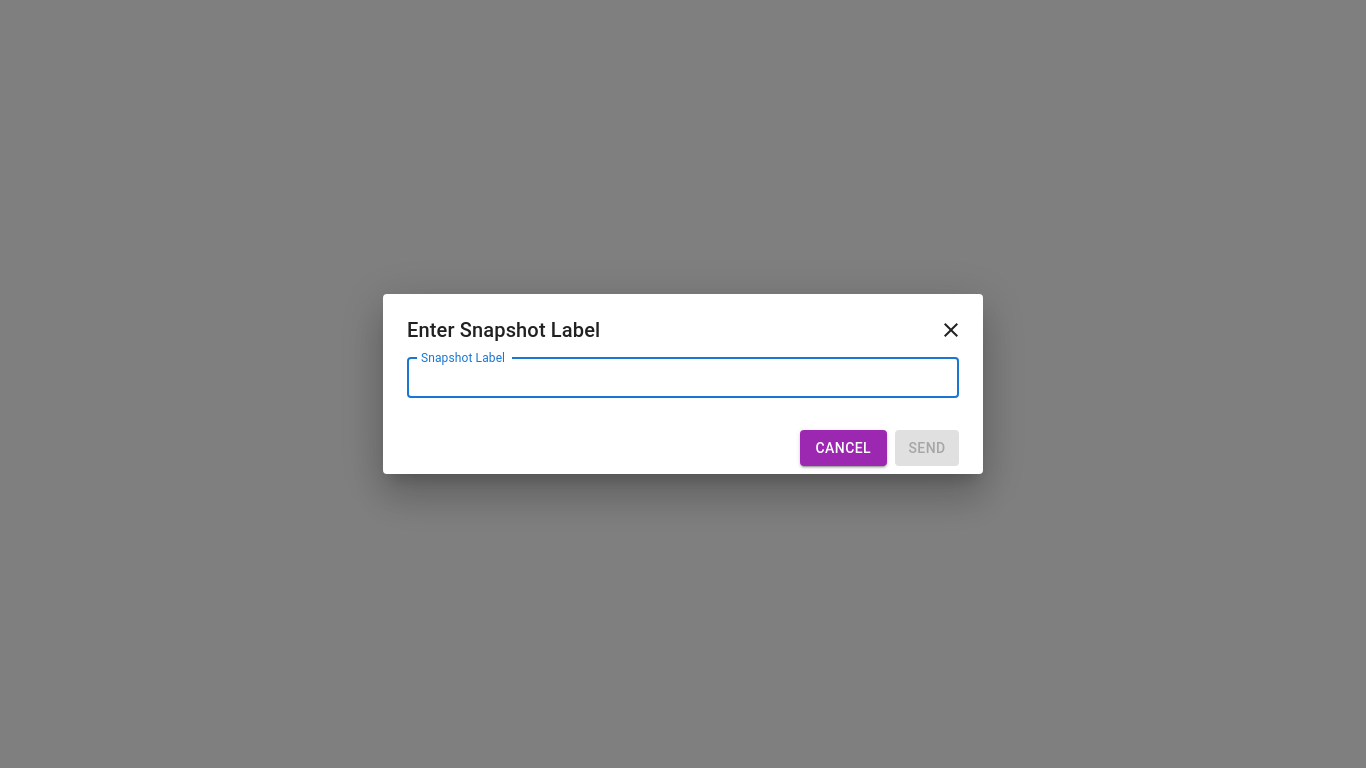
it: EndStatusModal › Form submission and API integration › shows success snackbar and closes modal on successful submission
The image size is (1366, 768).
Type "Success test" into the field labelled "Snapshot Label".
click(683, 378); type("Success test")  # box x1=407 y1=358 x2=959 y2=398
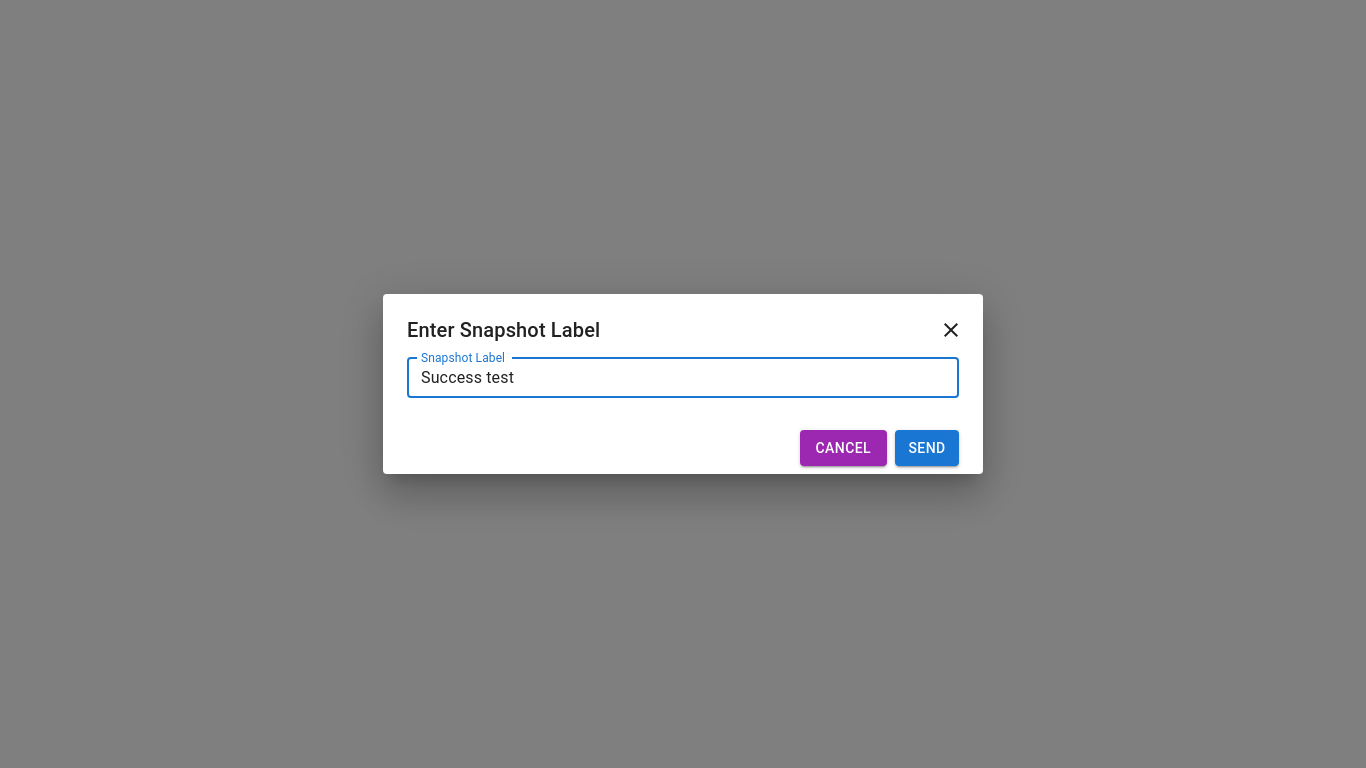
Click the button "Send".
click(927, 448)  # box x1=895 y1=430 x2=959 y2=466
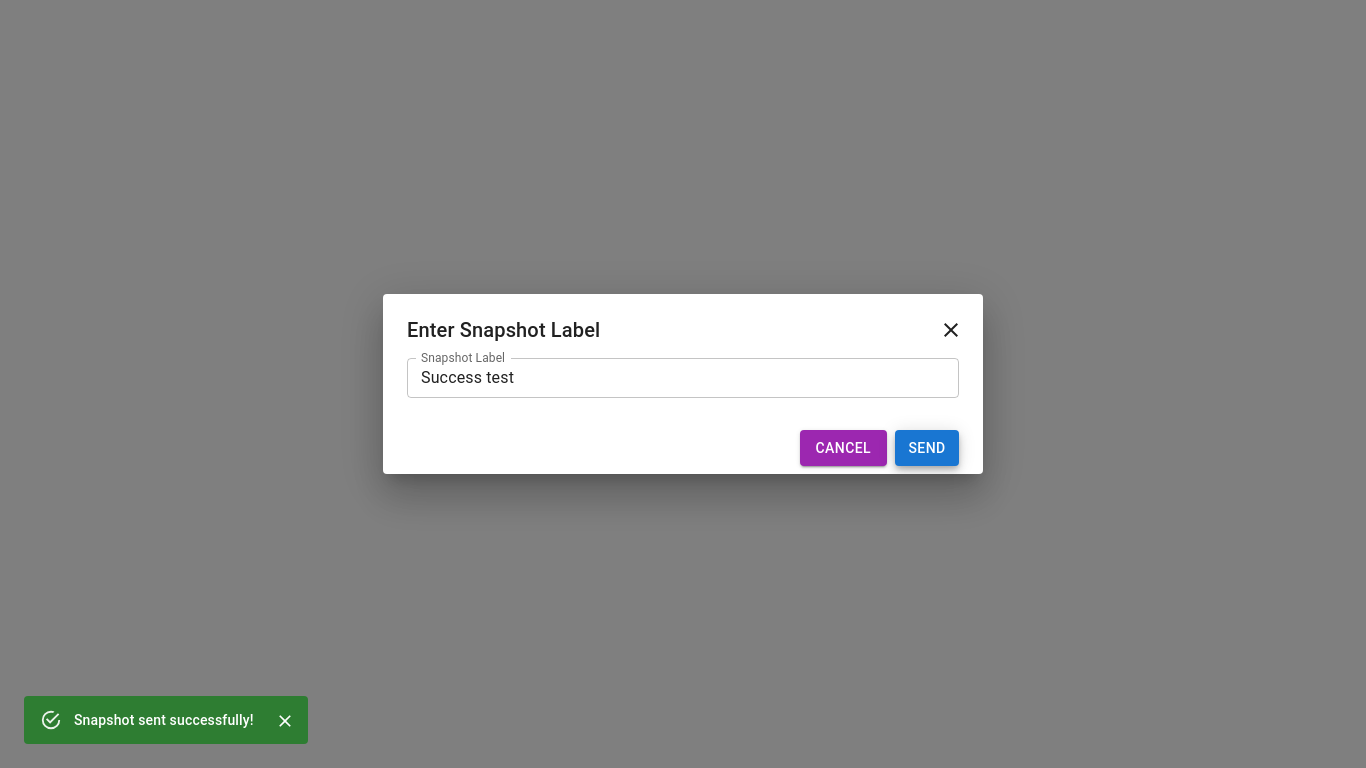
Result: the text "Snapshot sent successfully!" is shown at x1=74 y1=712 x2=254 y2=728
